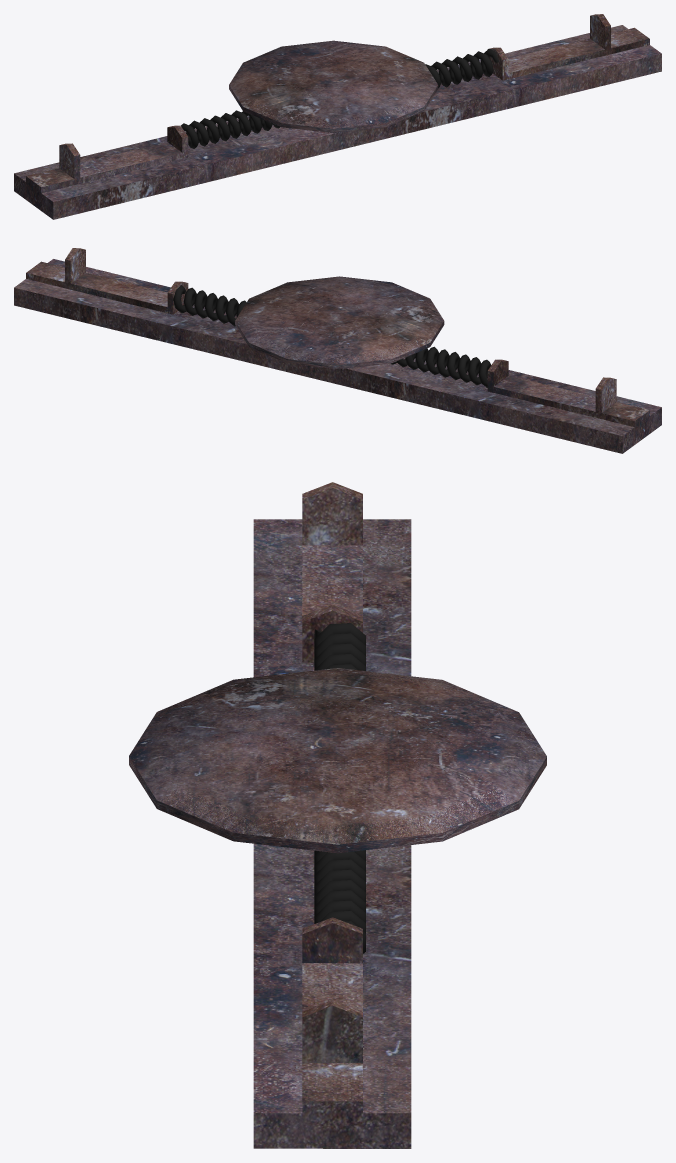
The model's file is TrapPart_Mechanism.obj.
The picture shows the model from 3 angles, top to bottom: view 1: azimuth 30°, elevation 25°; view 2: azimuth 150°, elevation 25°; view 3: azimuth 270°, elevation 25°; orthographic projection. The views are drawn at different scales.
Parts seen in each view (by area): view 1: Box001, Cylinder005, Spring001; view 2: Box001, Cylinder005, Spring001; view 3: Box001, Cylinder005, Spring001.
Part boxes in pixels (x1=…): Box001: x1=14, y1=14, x2=661, y2=219; Cylinder005: x1=229, y1=40, x2=438, y2=133; Spring001: x1=181, y1=48, x2=499, y2=148; Box001: x1=14, y1=248, x2=661, y2=453; Cylinder005: x1=235, y1=276, x2=444, y2=369; Spring001: x1=173, y1=285, x2=491, y2=387; Box001: x1=253, y1=482, x2=411, y2=1148; Cylinder005: x1=129, y1=668, x2=546, y2=853; Spring001: x1=314, y1=623, x2=365, y2=953.
Size of the model in its own units: 35.45 by 2.98 by 10.55.
Materials: 2 (1 with a texture image).
